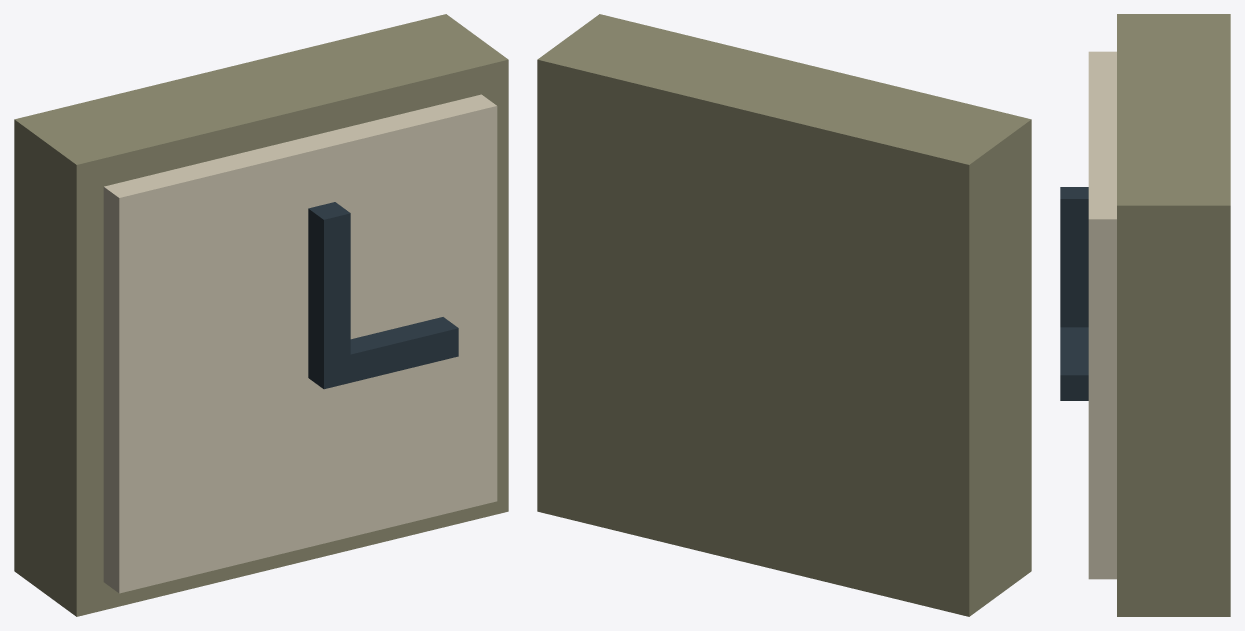
The model's file is fitness-15.glb.
3 renders of one model, left to right at view 1: azimuth 30°, elevation 25°; view 2: azimuth 150°, elevation 25°; view 3: azimuth 270°, elevation 25°, orthographic. The views are drawn at different scales.
Visible parts, largest first — view 1: Gym timer; view 2: Gym timer; view 3: Gym timer.
Part boxes in pixels (box(x1,y1,x2,y2)): Gym timer: box(14, 14, 508, 616); Gym timer: box(537, 14, 1031, 616); Gym timer: box(1060, 14, 1230, 616).
Bounding box in the file's own units: 1.28 × 1.28 × 0.48.
